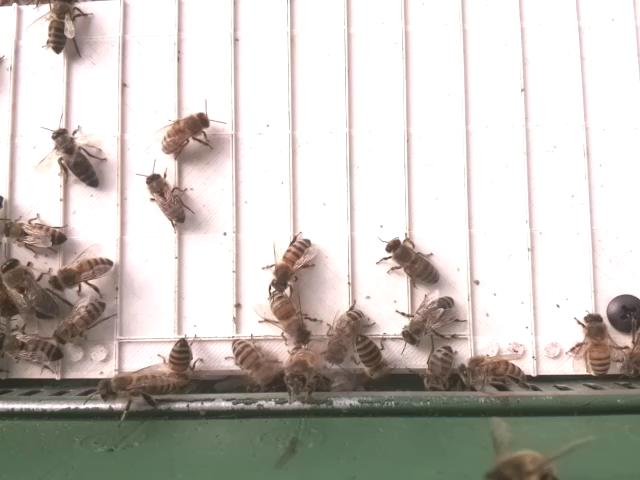Drone: (0, 255, 61, 327)
Worker: (48, 124, 101, 193), (381, 234, 440, 289), (400, 296, 461, 348), (321, 307, 368, 370), (51, 297, 110, 346), (226, 337, 277, 390), (0, 216, 71, 254), (143, 168, 187, 228), (267, 291, 311, 351), (47, 255, 115, 293), (156, 110, 210, 157), (270, 234, 313, 293), (578, 307, 613, 379), (0, 333, 68, 368), (459, 351, 527, 386), (354, 334, 394, 387), (43, 0, 80, 57), (422, 344, 456, 391)
